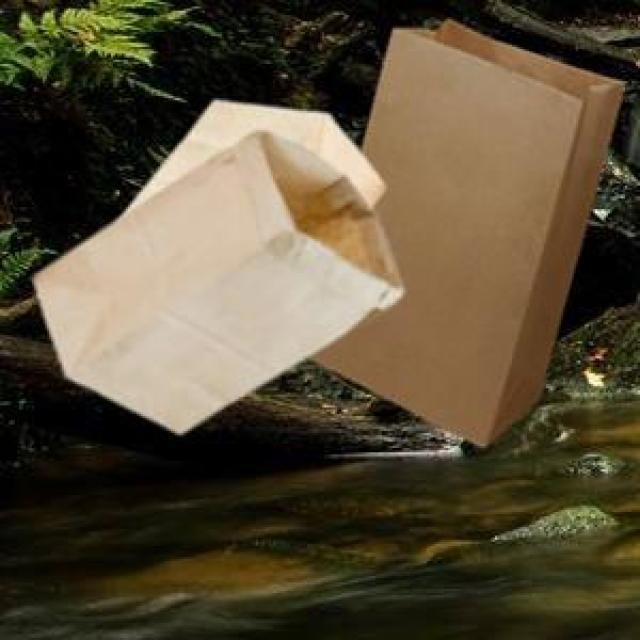paper: (305, 15, 621, 442), (30, 128, 399, 429), (120, 96, 380, 211)
